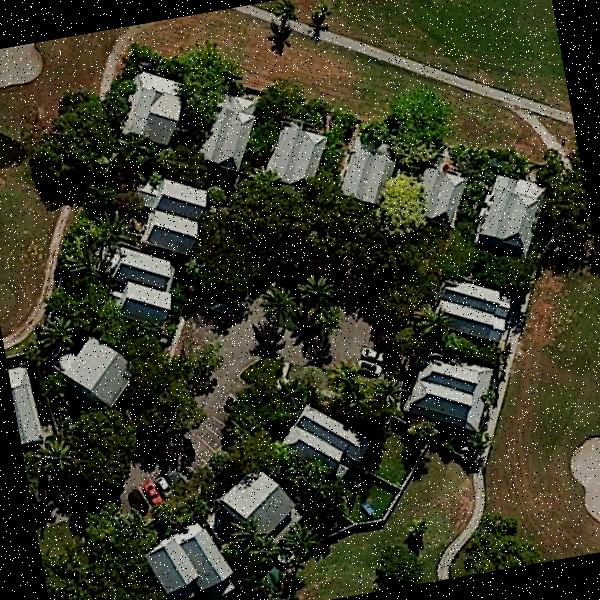Buildings: (403, 344, 501, 446), (136, 509, 234, 600), (215, 460, 302, 542), (110, 68, 192, 144), (476, 180, 552, 262), (434, 271, 516, 340), (284, 396, 348, 471), (264, 116, 328, 189), (63, 342, 130, 404), (334, 130, 393, 200), (110, 251, 172, 315), (420, 163, 476, 230), (142, 183, 200, 241), (196, 104, 252, 160)
